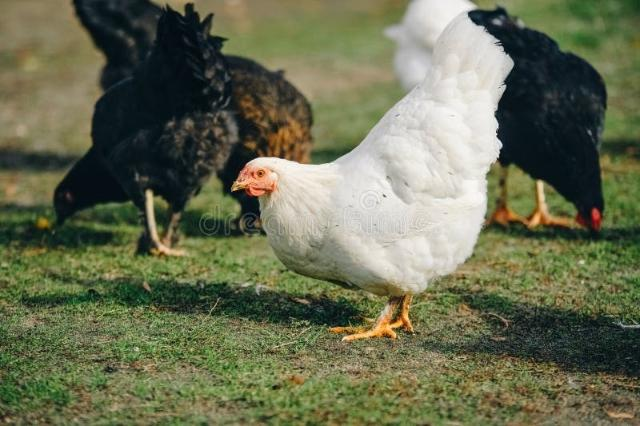Chicken: (232, 12, 514, 342), (74, 1, 316, 234), (52, 1, 234, 256), (468, 1, 608, 233), (385, 0, 479, 93)
